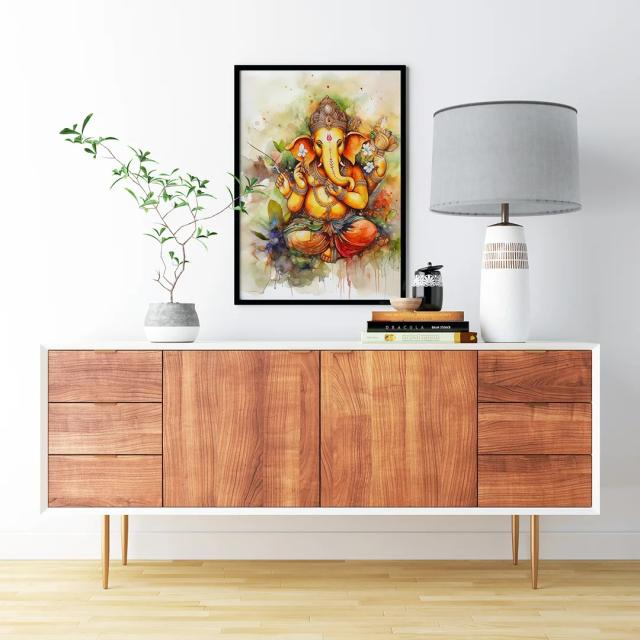painting: (234, 63, 405, 301)
